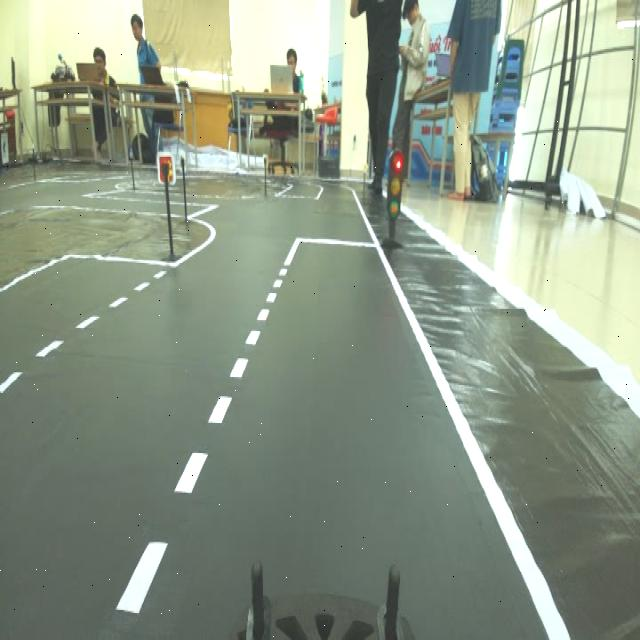trafficlight: (372, 147, 416, 262)
